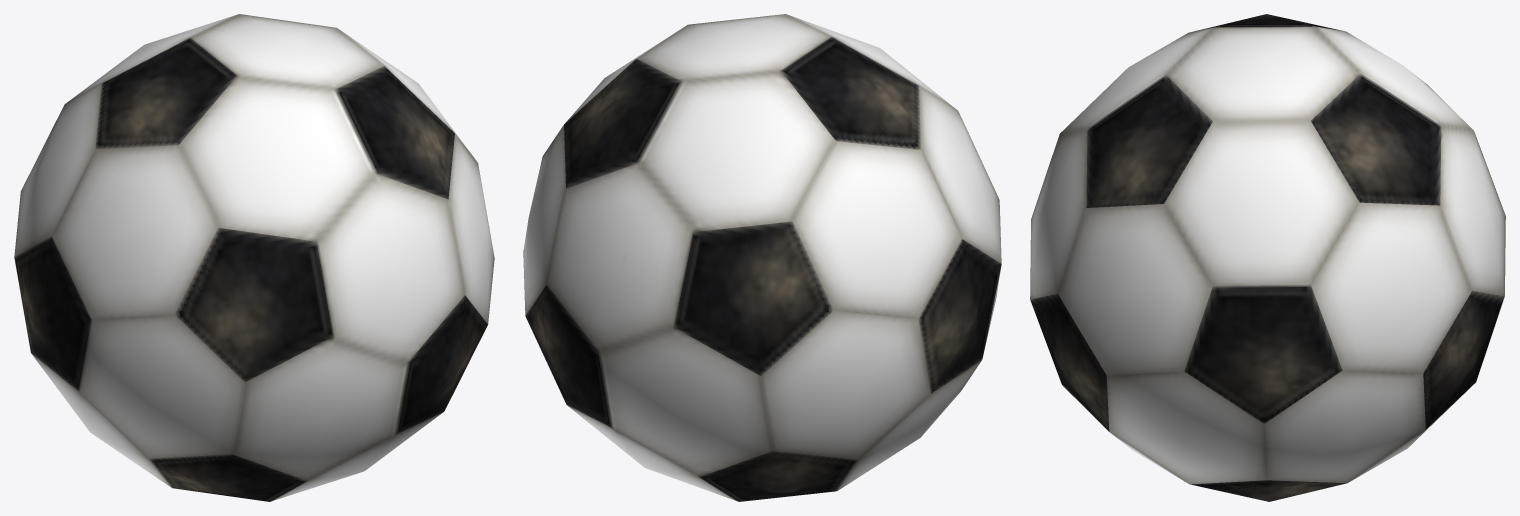
The model's file is st_ball_000.fbx.
3 views of the same model, side by side, from view 1: azimuth 30°, elevation 25°; view 2: azimuth 150°, elevation 25°; view 3: azimuth 270°, elevation 25° (orthographic).
Visible parts, largest first — view 1: st_Ball_030; view 2: st_Ball_030; view 3: st_Ball_030.
Boxes of the visible parts, bbox=[...] form: st_Ball_030: bbox=[14, 14, 494, 501]; st_Ball_030: bbox=[523, 14, 1001, 501]; st_Ball_030: bbox=[1030, 14, 1505, 501].
Bounding box in the file's own units: 22.16 × 21.34 × 21.58.
